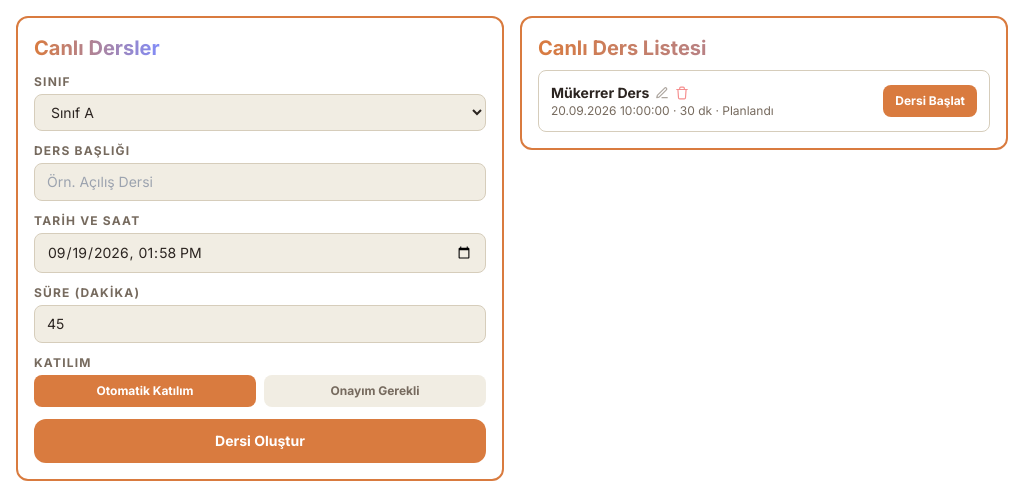
madde 2026-09-17 (madde 7): "scheduled" dersi silme ikonu onayla siler, listeden kaldırır
Expected: the text "Mükerrer Ders" is shown, [551,83,649,103]
Click the button titled "Dersi sil".
click(682, 93)  # box [675,86,689,100]
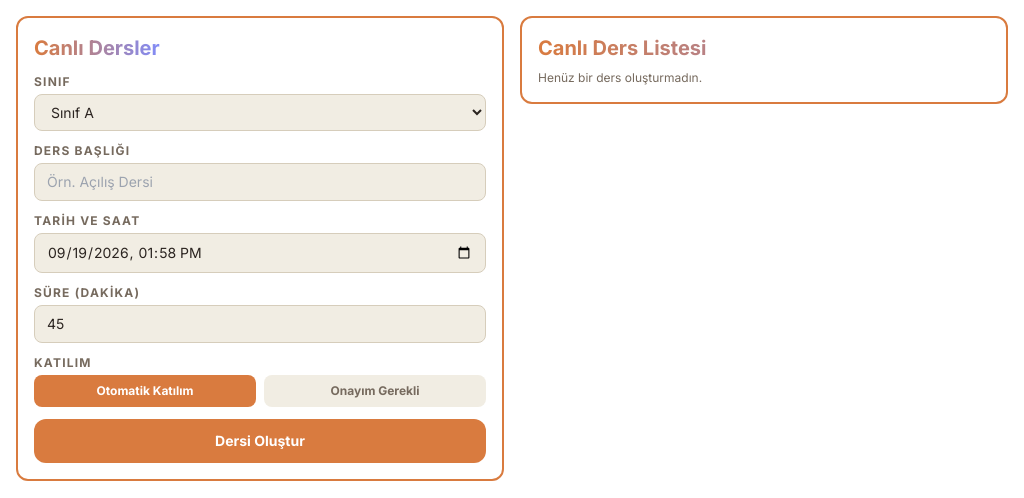
Result: the text "Mükerrer Ders" is gone
